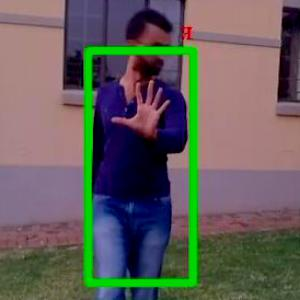follow_hand: (110, 72, 176, 145)
